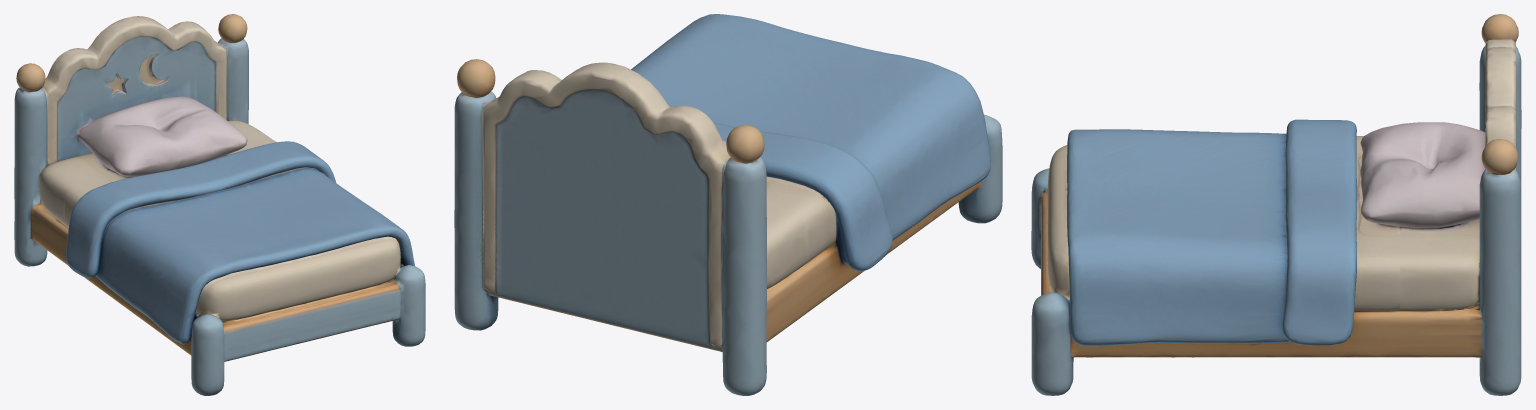
The model's file is furniture_bed.glb.
The picture shows the model from 3 angles, left to right: view 1: azimuth 30°, elevation 25°; view 2: azimuth 150°, elevation 25°; view 3: azimuth 270°, elevation 25°; orthographic projection. The views are drawn at different scales.
Visible parts, largest first — view 1: tripo_node_925fa9c6-bd31-4c86-bb03-d7a7c5cd22d1; view 2: tripo_node_925fa9c6-bd31-4c86-bb03-d7a7c5cd22d1; view 3: tripo_node_925fa9c6-bd31-4c86-bb03-d7a7c5cd22d1.
Boxes of the visible parts, x1,y1,x2,y2 form: tripo_node_925fa9c6-bd31-4c86-bb03-d7a7c5cd22d1: (14, 14, 425, 395); tripo_node_925fa9c6-bd31-4c86-bb03-d7a7c5cd22d1: (454, 14, 1002, 395); tripo_node_925fa9c6-bd31-4c86-bb03-d7a7c5cd22d1: (1031, 14, 1521, 395).
Bounding box in the file's own units: 0.7561 × 0.6083 × 0.981.
Materials: 1 (1 with a texture image).
